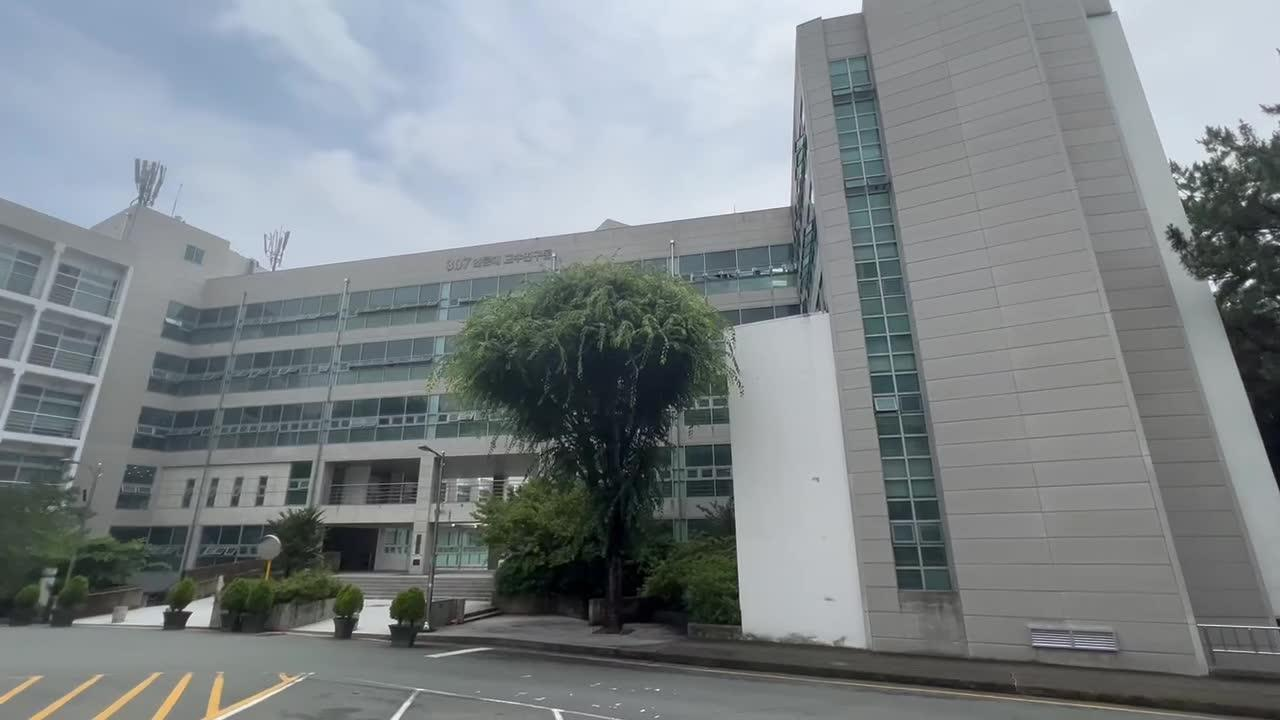building: (7, 182, 456, 520)
